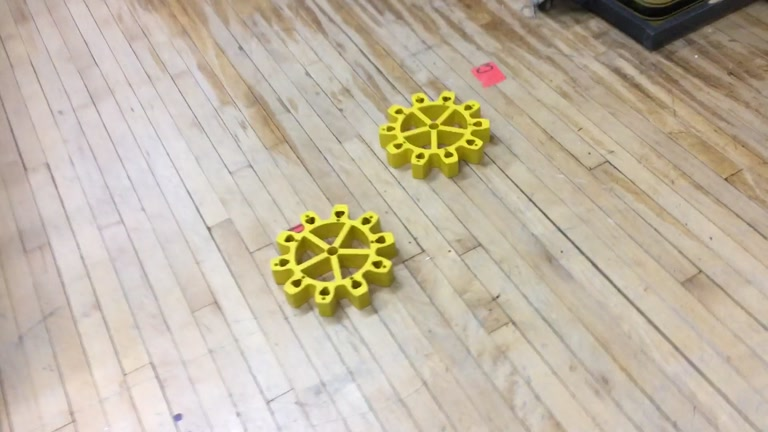gear: (268, 202, 395, 317), (378, 90, 492, 180)
